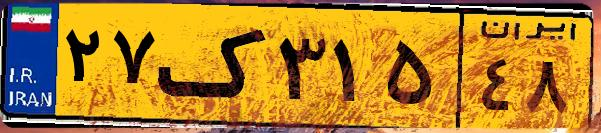1: (330, 28, 385, 110)
2: (57, 26, 110, 100)
3: (270, 28, 330, 110)
4: (475, 38, 525, 113)
5: (385, 28, 445, 110)
7: (110, 28, 158, 98)
8: (525, 38, 570, 115)
ک: (158, 12, 270, 120)
